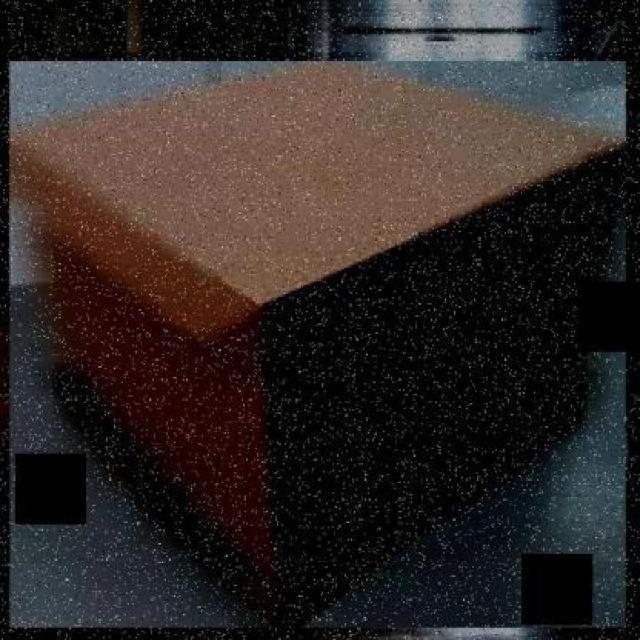box: (0, 52, 637, 636)
